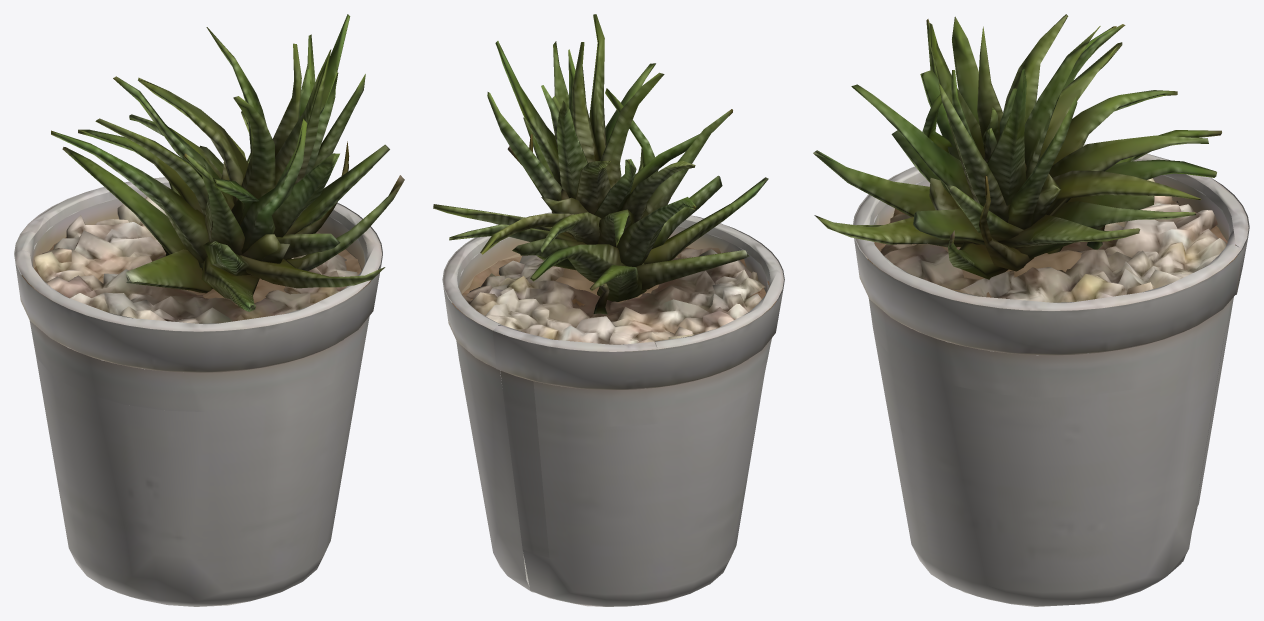
File: plant-small-balanced-2ae47e651b.glb
The picture shows the model from 3 angles, left to right: view 1: azimuth 30°, elevation 25°; view 2: azimuth 150°, elevation 25°; view 3: azimuth 270°, elevation 25°; orthographic projection. The views are drawn at different scales.
Parts seen in each view (by area): view 1: potted_plant_04_dirt; view 2: potted_plant_04_dirt; view 3: potted_plant_04_dirt.
Boxes of the visible parts, left/top/right/bottom form: potted_plant_04_dirt: left=14, top=14, right=404, bottom=606; potted_plant_04_dirt: left=433, top=14, right=784, bottom=606; potted_plant_04_dirt: left=813, top=14, right=1249, bottom=606.
Bounding box in the file's own units: 0.168 × 0.2674 × 0.1846.
1 material, 1 textured.
